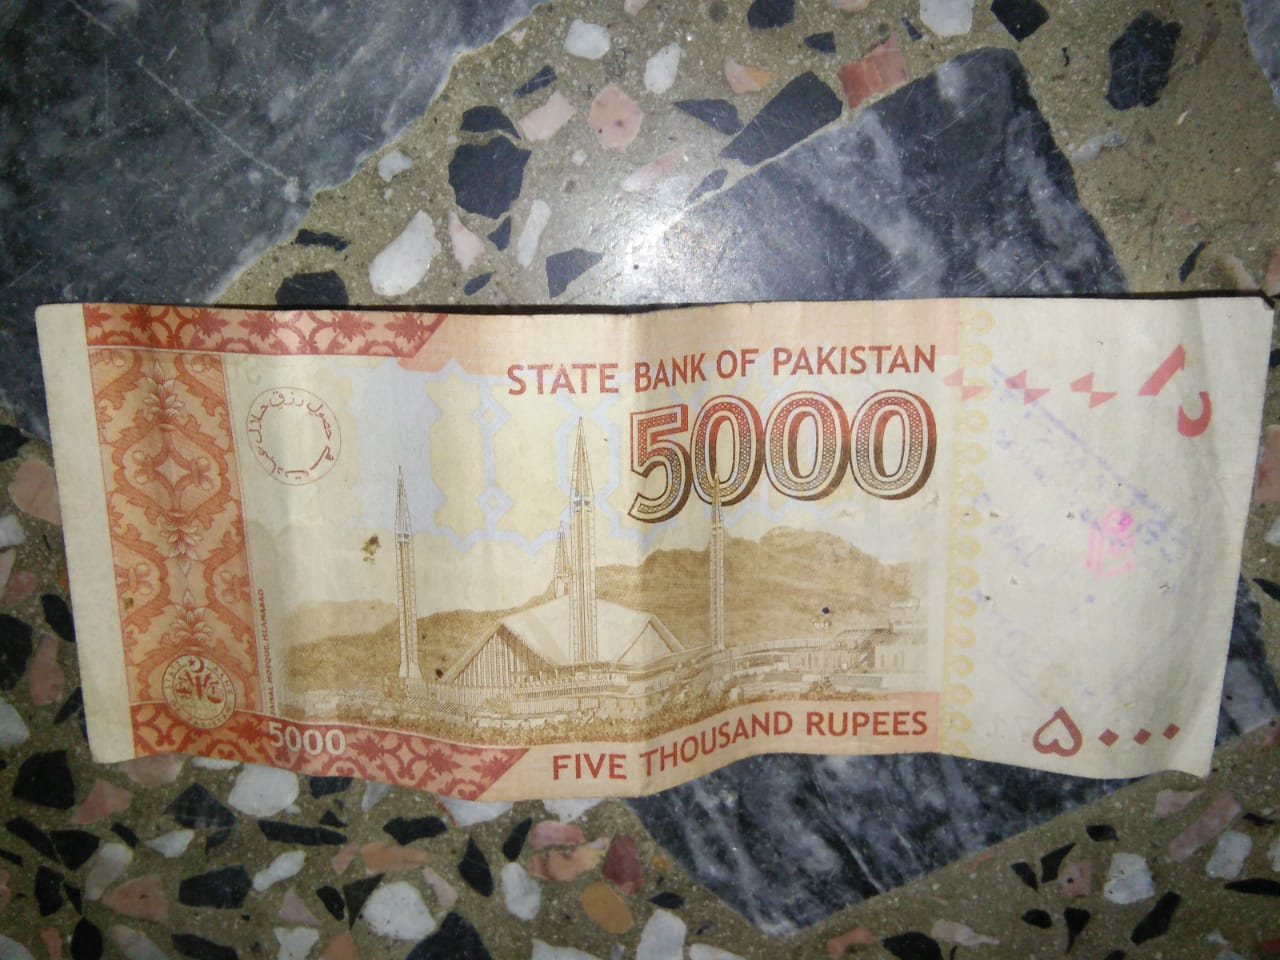5000 rupee: (11, 268, 1218, 823)
